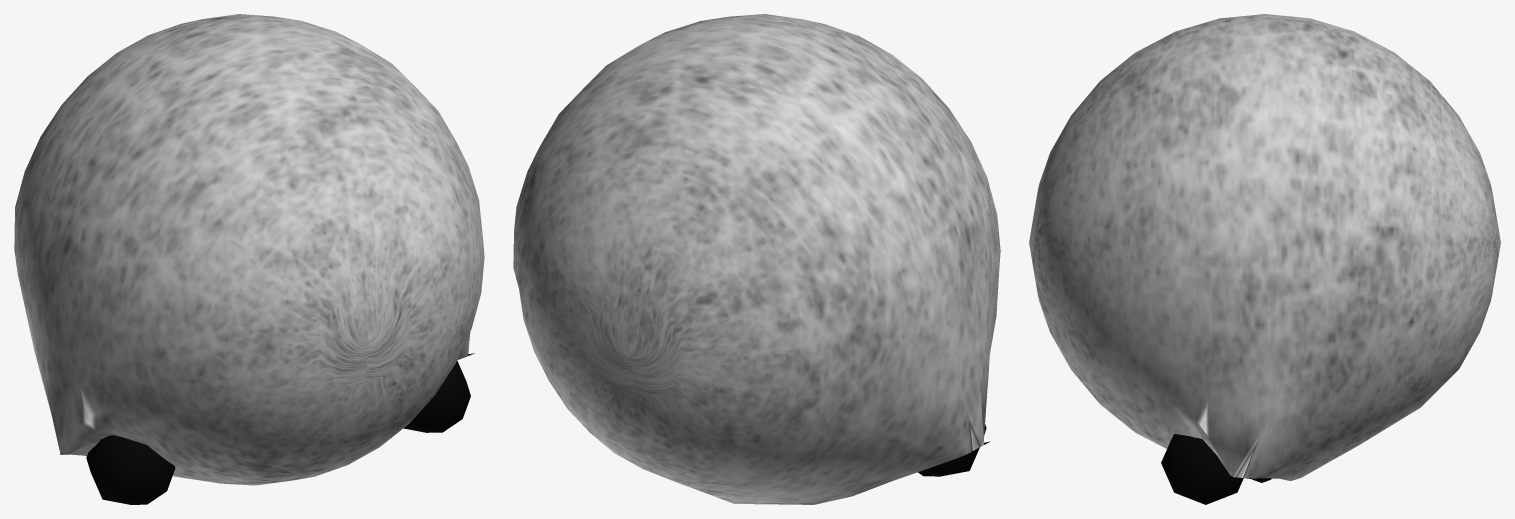
The model's file is head.obj.
The picture shows the model from 3 angles, left to right: view 1: azimuth 30°, elevation 25°; view 2: azimuth 150°, elevation 25°; view 3: azimuth 270°, elevation 25°; orthographic projection. The views are drawn at different scales.
Visible parts, largest first — view 1: head_ball, eye_right, eye_left; view 2: head_ball, eye_right; view 3: head_ball, eye_left.
Part boxes in pixels (<box>): head_ball: <box>14,14,484,485</box>; eye_right: <box>86,435,175,504</box>; eye_left: <box>403,361,470,432</box>; head_ball: <box>513,14,1000,504</box>; eye_right: <box>918,424,986,476</box>; head_ball: <box>1029,14,1500,480</box>; eye_left: <box>1161,434,1243,504</box>.
Size of the model in its own units: 0.9844 by 0.9856 by 0.9966.
